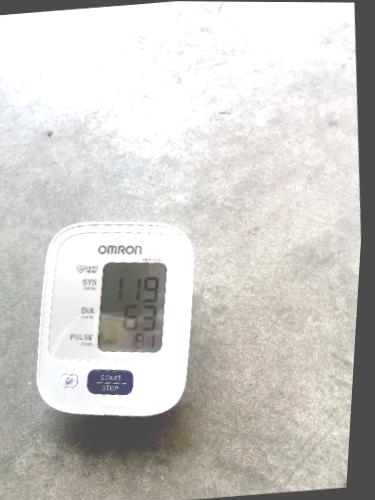bpm: (96, 258, 167, 356)
